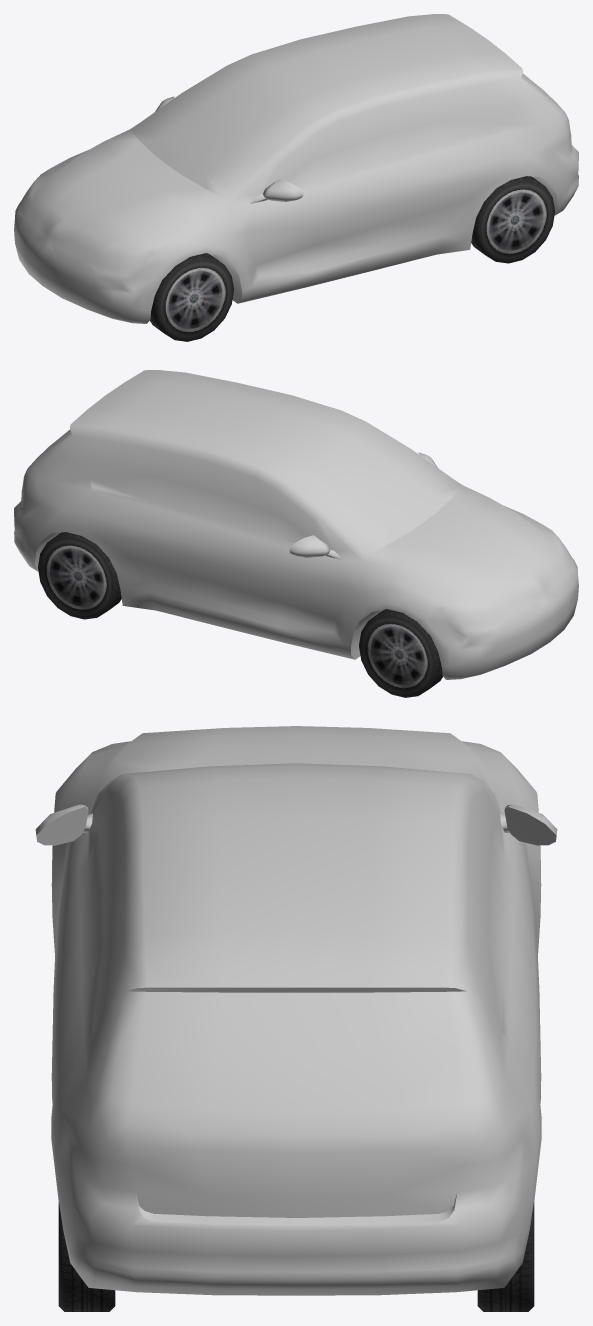
The model's file is CAR3.fbx.
3 views of the same model, one above another, from view 1: azimuth 30°, elevation 25°; view 2: azimuth 150°, elevation 25°; view 3: azimuth 270°, elevation 25° (orthographic). The views are drawn at different scales.
Visible parts, largest first — view 1: on_teker_1_wheel_0; view 2: on_teker_1_wheel_0; view 3: on_teker_1_wheel_0.
Boxes of the visible parts, x1,y1,x2,y2 form: on_teker_1_wheel_0: (14, 14, 578, 341); on_teker_1_wheel_0: (14, 370, 578, 697); on_teker_1_wheel_0: (35, 726, 557, 1311).
Size of the model in its own units: 481 by 169 by 216.
